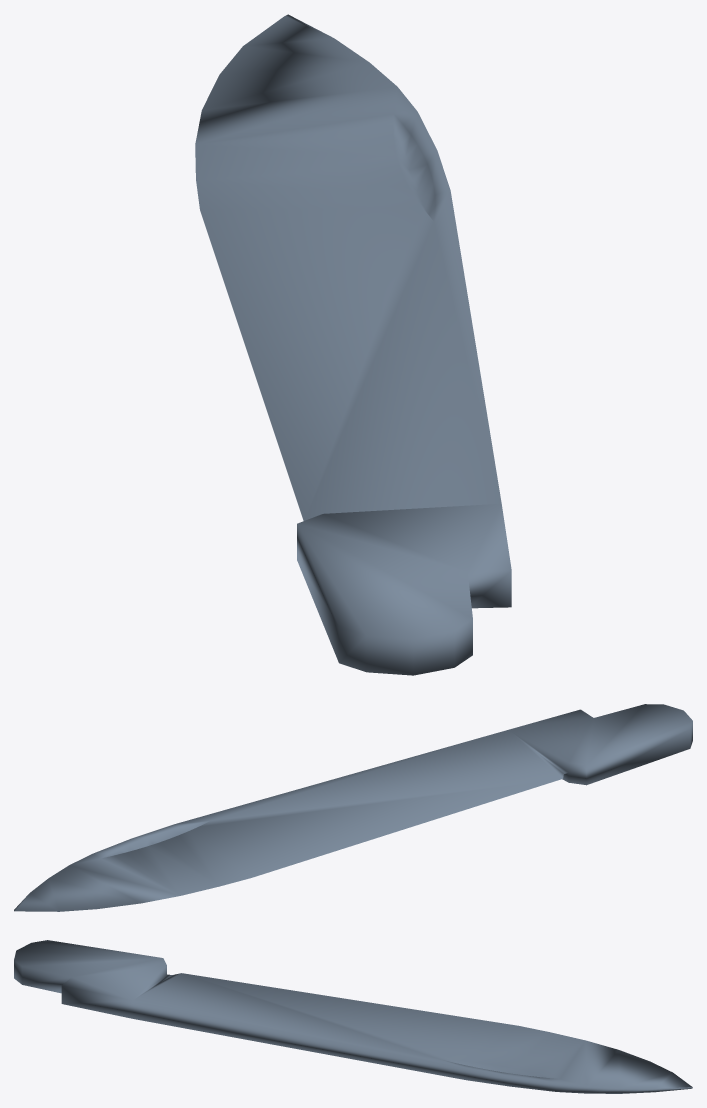
The model's file is original-1.obj.
3 views of the same model, one above another, from view 1: azimuth 30°, elevation 25°; view 2: azimuth 150°, elevation 25°; view 3: azimuth 270°, elevation 25° (orthographic). The views are drawn at different scales.
Parts seen in each view (by area): view 1: BLADE_MAIN1/BLADE_MAIN/mesh1/mesh1-geometry#mesh1-geometry; view 2: BLADE_MAIN1/BLADE_MAIN/mesh1/mesh1-geometry#mesh1-geometry; view 3: BLADE_MAIN1/BLADE_MAIN/mesh1/mesh1-geometry#mesh1-geometry.
Boxes of the visible parts, bbox=[...] form: BLADE_MAIN1/BLADE_MAIN/mesh1/mesh1-geometry#mesh1-geometry: bbox=[195, 14, 511, 675]; BLADE_MAIN1/BLADE_MAIN/mesh1/mesh1-geometry#mesh1-geometry: bbox=[14, 704, 692, 911]; BLADE_MAIN1/BLADE_MAIN/mesh1/mesh1-geometry#mesh1-geometry: bbox=[14, 940, 692, 1093].
Bounding box in the file's own units: 0.4473 × 0.0268 × 0.8721.
